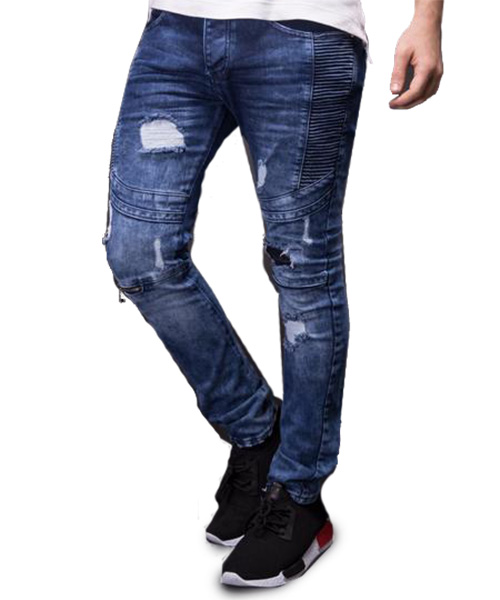Jeans: (97, 9, 371, 496)
